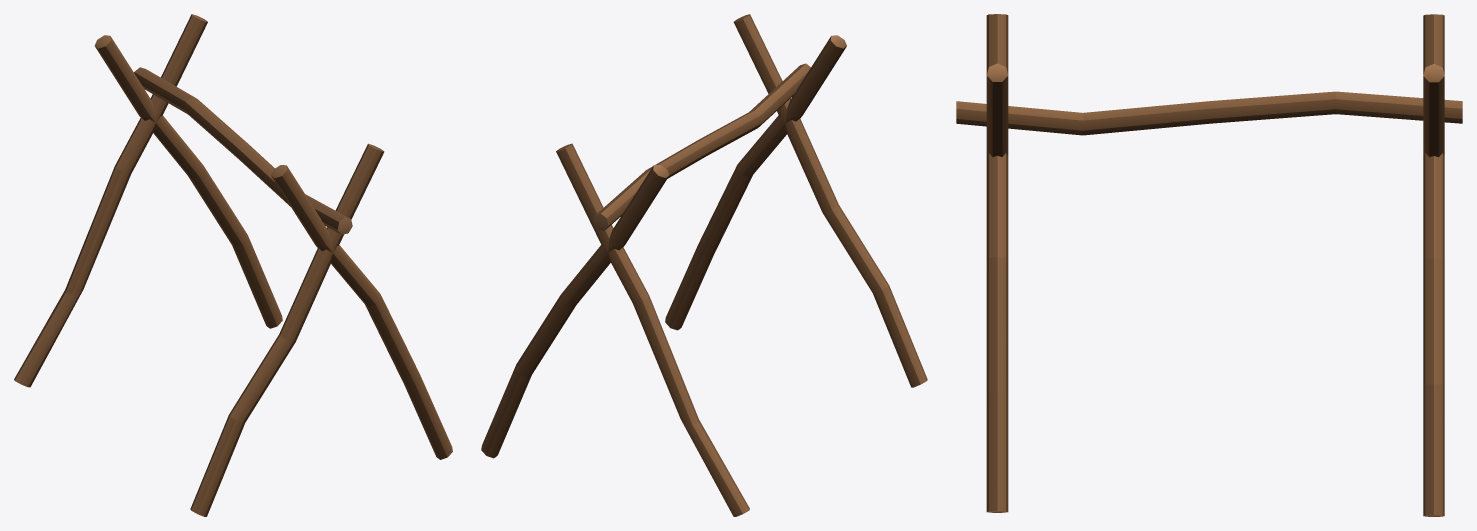
Rendered from Tent_branch.fbx.
3 views of the same model, side by side, from view 1: azimuth 30°, elevation 25°; view 2: azimuth 150°, elevation 25°; view 3: azimuth 270°, elevation 25° (orthographic). The views are drawn at different scales.
Parts seen in each view (by area): view 1: Cylinder; view 2: Cylinder; view 3: Cylinder.
Boxes of the visible parts, x1,y1,x2,y2 form: Cylinder: (14, 14, 452, 516); Cylinder: (481, 14, 927, 516); Cylinder: (956, 14, 1462, 516).
Bounding box in the file's own units: 458 × 539 × 607.
Materials: 1 (1 with a texture image).
